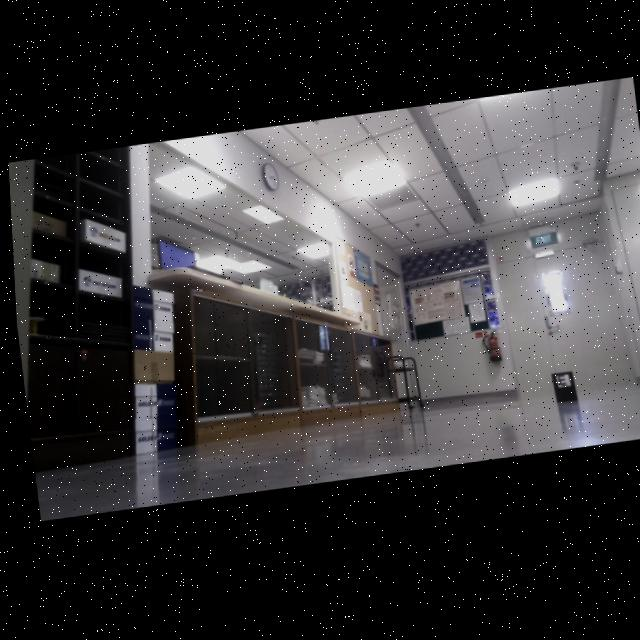E: (554, 383, 562, 393)
